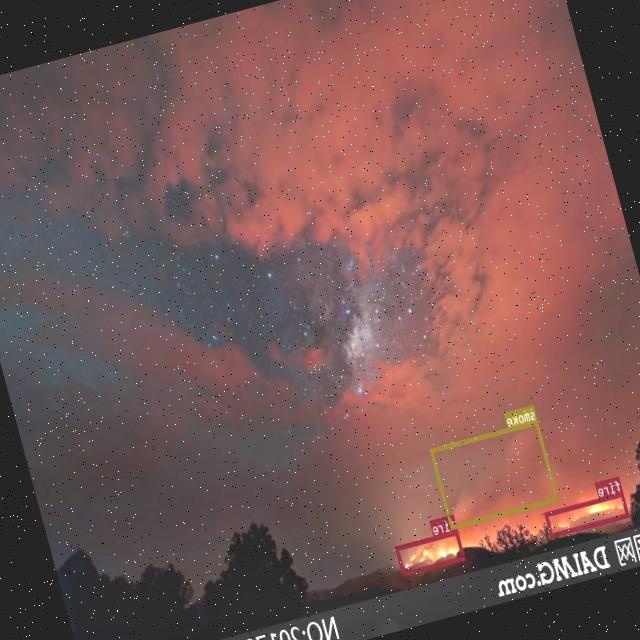fire: (544, 491, 630, 536), (394, 528, 465, 575)
smoke: (430, 419, 559, 529)
